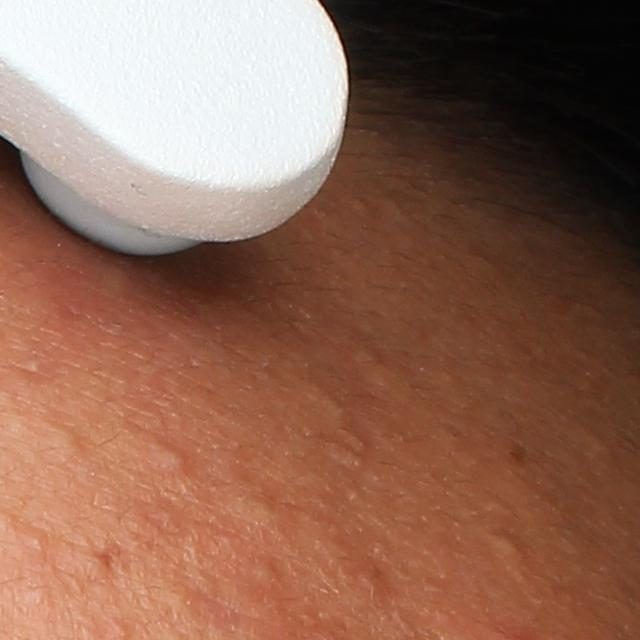comedo: (223, 489, 276, 530), (40, 420, 86, 457), (488, 531, 525, 562), (22, 581, 55, 613), (25, 529, 46, 551)
